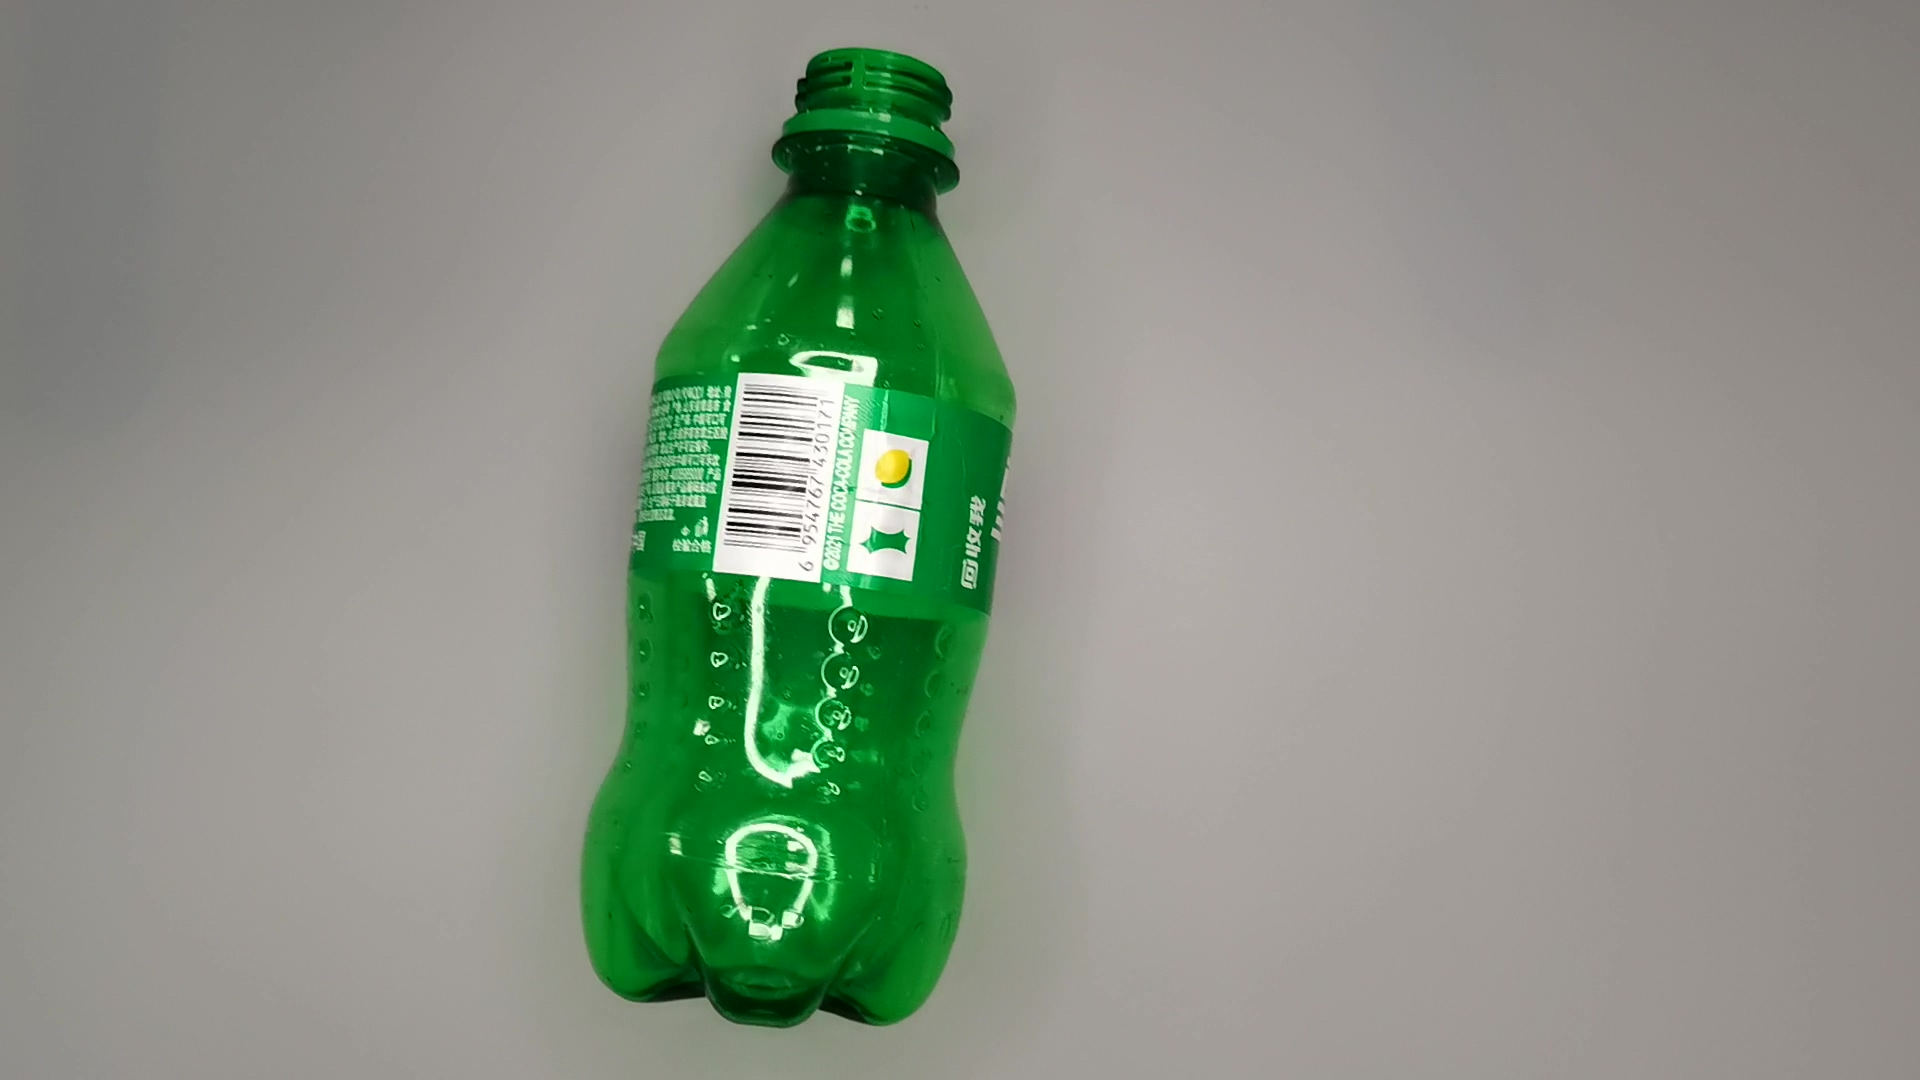bottle: (566, 37, 1040, 1040)
